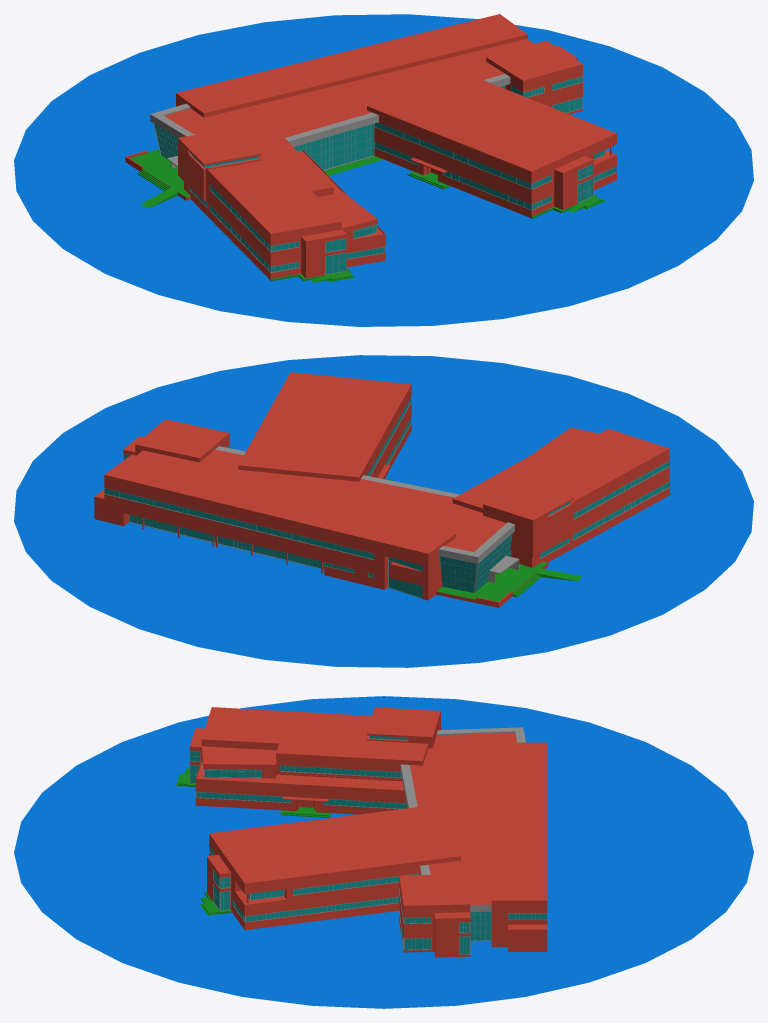
The model's file is Blockout_Grado_002.FBX.
3 views of the same model, one above another, from view 1: azimuth 30°, elevation 25°; view 2: azimuth 150°, elevation 25°; view 3: azimuth 270°, elevation 25° (orthographic).
Visible parts, largest first — view 1: Cylinder013, Box005, Box004, Box002, Box003, Windows, Box006, Box008, Object003, Plane007, Object002; view 2: Cylinder013, Box002, Box005, Box004, Box003, Windows, Box008, Box006, Plane007, Object002, Object003; view 3: Cylinder013, Box005, Box004, Box002, Box003, Windows, Box006, Box008, Object003, Object002.
Boxes of the visible parts, left/top/right/bottom form: Cylinder013: left=14, top=14, right=753, bottom=326; Box005: left=367, top=68, right=616, bottom=218; Box004: left=184, top=129, right=385, bottom=280; Box002: left=176, top=14, right=527, bottom=117; Box003: left=164, top=39, right=534, bottom=146; Windows: left=153, top=76, right=616, bottom=274; Box006: left=486, top=40, right=582, bottom=114; Box008: left=178, top=127, right=261, bottom=201; Object003: left=318, top=192, right=377, bottom=240; Plane007: left=125, top=149, right=190, bottom=200; Object002: left=150, top=103, right=194, bottom=137; Cylinder013: left=14, top=355, right=753, bottom=667; Box002: left=94, top=454, right=455, bottom=600; Box005: left=238, top=372, right=411, bottom=481; Box004: left=452, top=429, right=669, bottom=567; Box003: left=137, top=446, right=506, bottom=551; Windows: left=104, top=397, right=669, bottom=598; Box008: left=483, top=482, right=573, bottom=557; Box006: left=123, top=419, right=229, bottom=462; Plane007: left=436, top=562, right=548, bottom=607; Object002: left=438, top=522, right=514, bottom=563; Object003: left=533, top=427, right=598, bottom=454; Cylinder013: left=14, top=696, right=753, bottom=1008; Box005: left=207, top=806, right=460, bottom=930; Box004: left=189, top=707, right=427, bottom=814; Box002: left=491, top=742, right=547, bottom=951; Box003: left=400, top=732, right=516, bottom=912; Windows: left=189, top=735, right=547, bottom=954; Box006: left=399, top=874, right=470, bottom=957; Box008: left=366, top=707, right=440, bottom=748; Object003: left=201, top=746, right=276, bottom=778; Object002: left=436, top=727, right=525, bottom=742.
Size of the model in its own units: 16277 by 1338 by 16277.
